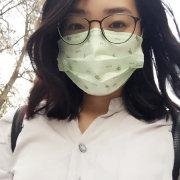OK: (54, 6, 145, 97)
